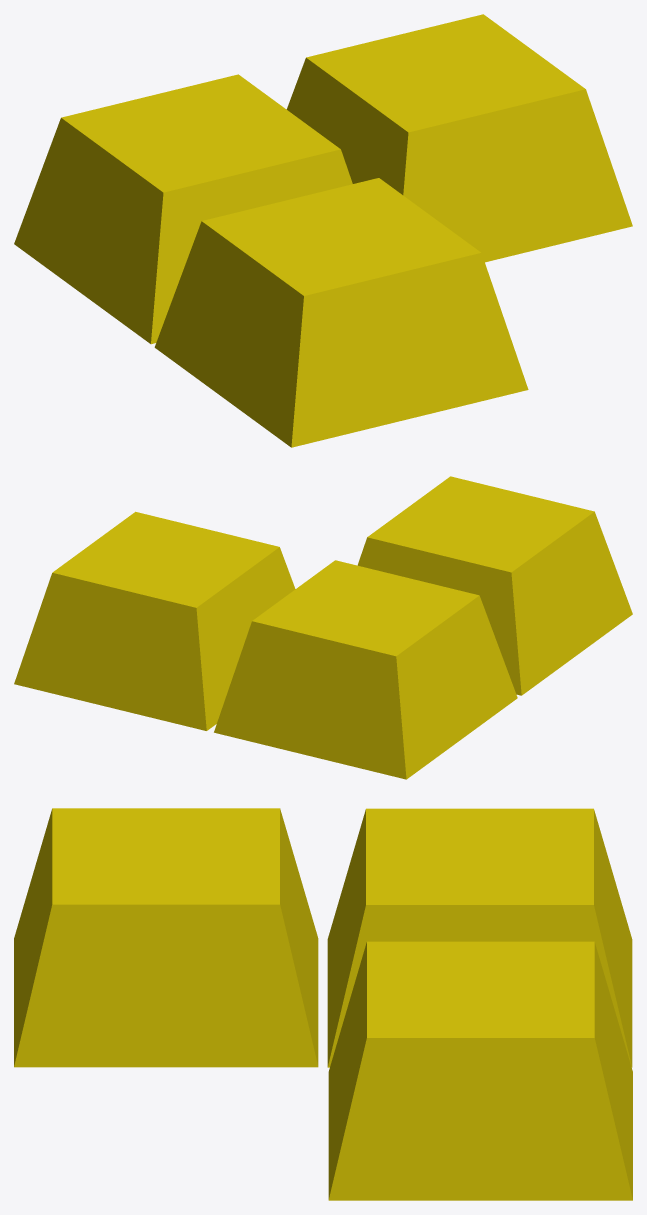
Rendered from R_Piece_YellowRegular_low poly.fbx.
The picture shows the model from 3 angles, top to bottom: view 1: azimuth 30°, elevation 25°; view 2: azimuth 150°, elevation 25°; view 3: azimuth 270°, elevation 25°; orthographic projection. The views are drawn at different scales.
Parts seen in each view (by area): view 1: Cube.051; view 2: Cube.051; view 3: Cube.051.
Part boxes in pixels (x1,y1,x2,y2): Cube.051: [14, 14, 632, 447]; Cube.051: [14, 476, 632, 779]; Cube.051: [14, 808, 632, 1200].
Bounding box in the file's own units: 27.7 × 7.23 × 27.75.
